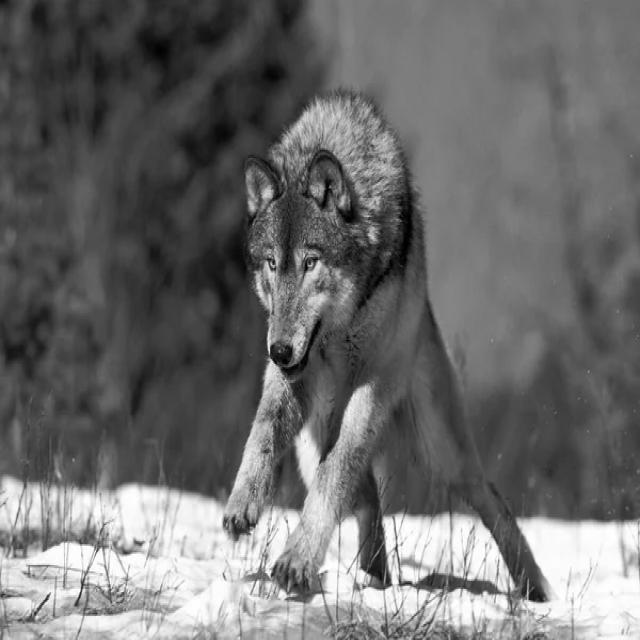Animal: (223, 94, 554, 602)
